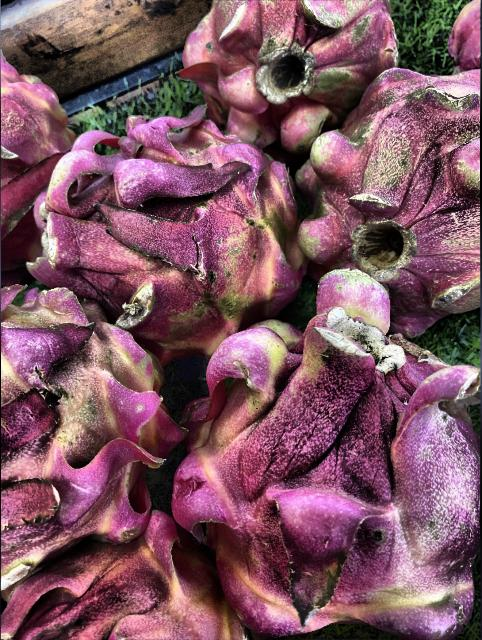buah-naga-belum-matang: (171, 293, 482, 637), (27, 126, 304, 320), (0, 265, 164, 559), (305, 79, 482, 315), (180, 0, 396, 126)
